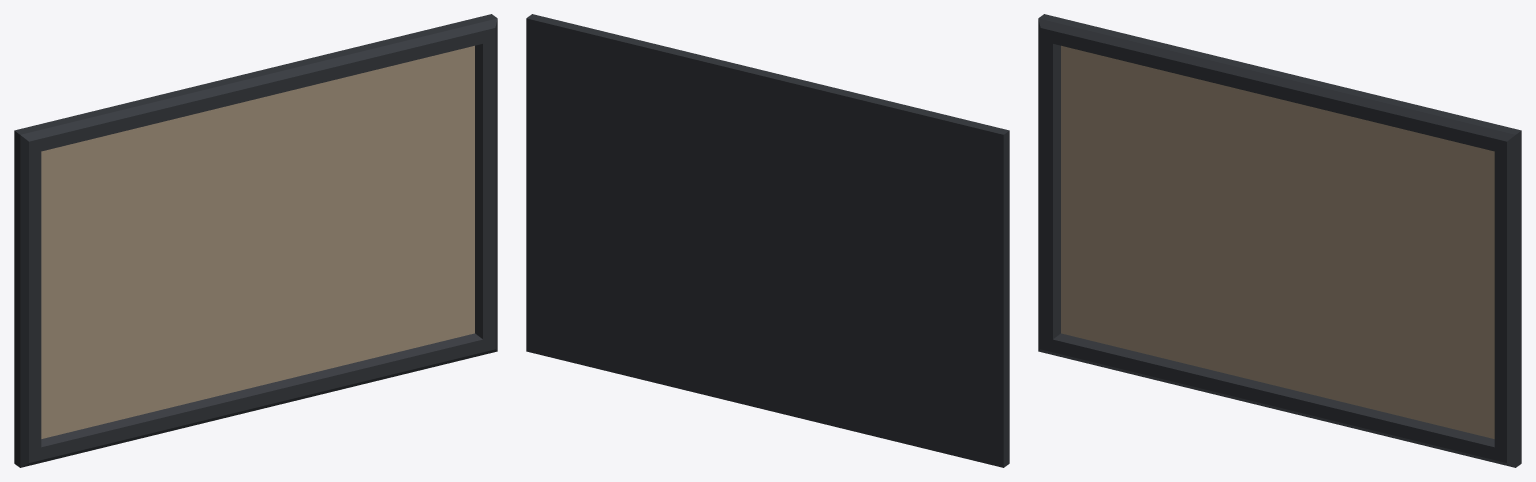
The model's file is SM_Prop_Notice_Board_01.obj.
3 renders of one model, left to right at view 1: azimuth 30°, elevation 25°; view 2: azimuth 150°, elevation 25°; view 3: azimuth 330°, elevation 25°, orthographic.
Visible parts, largest first — view 1: SM_Prop_Notice_Board_01_0; view 2: SM_Prop_Notice_Board_01_0; view 3: SM_Prop_Notice_Board_01_0.
Boxes of the visible parts, box(x1,y1,x2,y2) form: SM_Prop_Notice_Board_01_0: box(14, 14, 497, 467); SM_Prop_Notice_Board_01_0: box(526, 14, 1009, 467); SM_Prop_Notice_Board_01_0: box(1038, 14, 1521, 467).
Size of the model in its own units: 1.5 by 1 by 0.05.
1 material, 1 textured.
